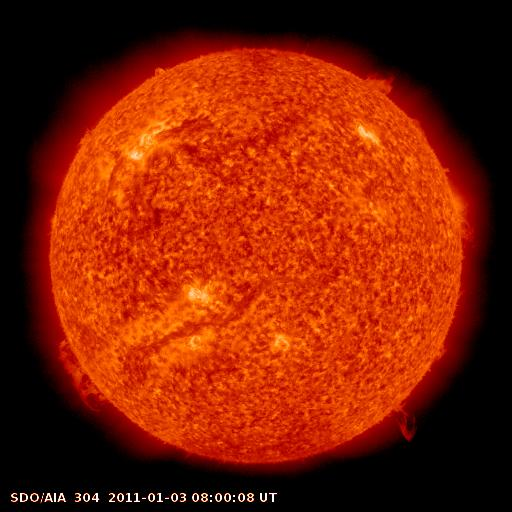prominence: (47, 326, 116, 419), (376, 390, 432, 454), (354, 56, 410, 109), (138, 54, 177, 90), (65, 120, 104, 154)
